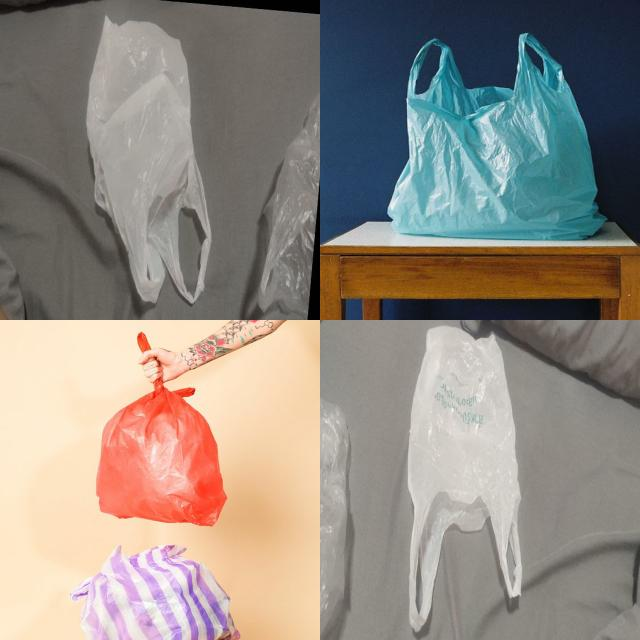Single-layer Plastic: (388, 34, 605, 240), (86, 16, 211, 303), (408, 326, 522, 631), (96, 379, 226, 526), (246, 95, 320, 319), (71, 545, 239, 640), (320, 400, 350, 640)
